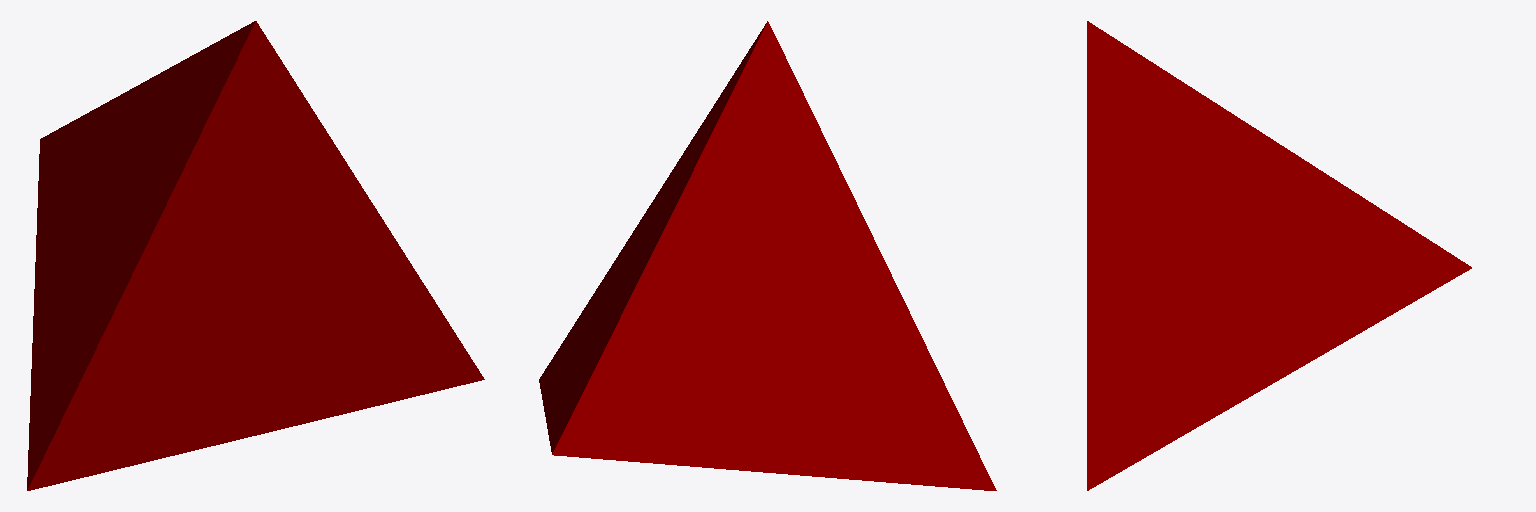
robot.urdf — truth_d4:
<?xml version="1.0" ?>
<robot name="truth_d4"
  xmlns:drake="https://drake.mit.edu/">
    <link name="cube">
        <inertial>
            <origin xyz="0 0 0" rpy="0 0 0"/>
            <mass value="0.5" />
            <inertia
                ixx="0.5"
                ixy="0"
                ixz="0"
                iyy="0.5"
                iyz="0"
                izz="0.5"/>
        </inertial>
        <visual>
            <origin xyz="0 0 0" rpy="0 0 0" />
            <geometry>
                <mesh filename="meshes/d4_4cm_mmscale.obj"/>
            </geometry>
            <material name="pennred">
                <color rgba="0.6 0 0 1.0" />
            </material>
        </visual>
        <collision>
            <geometry>
                <mesh filename="meshes/d4_4cm_mmscale.obj"/>
            </geometry>
            <origin xyz="0 0 0" rpy="0 0 0" />
            <drake:proximity_properties>
                <drake:mu_static value="0.05" />
                <drake:rigid_hydroelastic />
                <drake:mesh_resolution_hint value="0.001" />
                <drake:point_contact_stiffness value="10800.0" />
                <drake:hunt_crossley_dissipation value="0.4" />
            </drake:proximity_properties>
        </collision>
    </link>
</robot>

--- Render facts (derived) ---
The picture shows the robot from 3 angles, left to right: view 1: azimuth 30°, elevation 25°; view 2: azimuth 150°, elevation 25°; view 3: azimuth 270°, elevation 25°; orthographic projection.
Robot: truth_d4 — 1 links, 0 joints (none); root link cube; default pose: all joints at 0.
Links seen in each view (by area): view 1: cube; view 2: cube; view 3: cube.
Boxes of the visible links, x1,y1,x2,y2 form: cube: (27, 21, 484, 490); cube: (539, 21, 996, 490); cube: (1087, 21, 1471, 490).
Bounding box of the posed robot: 0.0408 × 0.0333 × 0.0354 m (x, y, z).
Meshes: 1 distinct files referenced, 1 mesh visuals loaded (1 OBJ).
